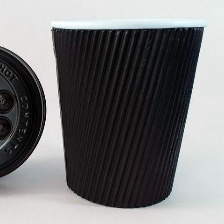paper_cup: (44, 11, 211, 213)
